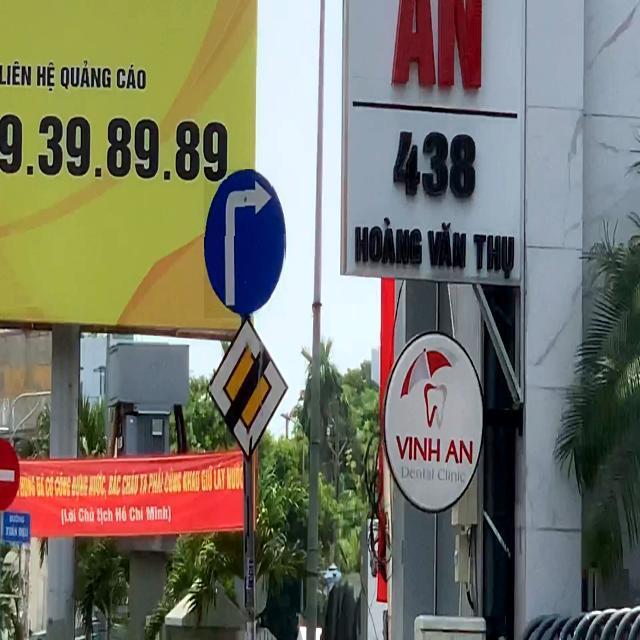R-301d: (204, 169, 286, 318)
